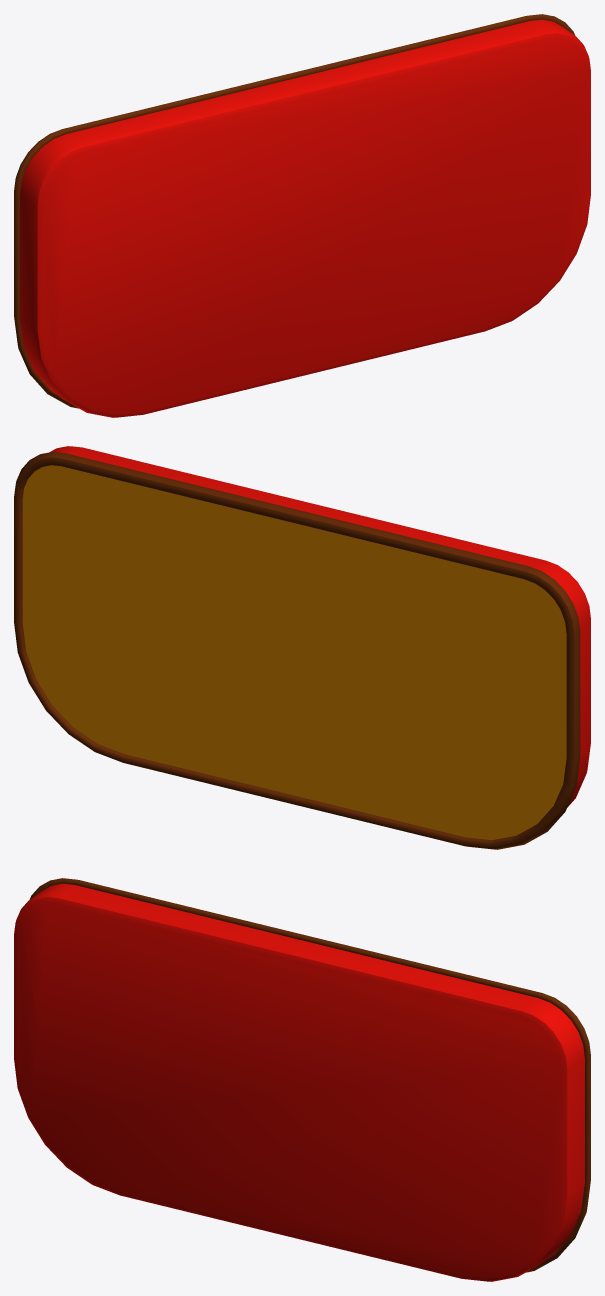
Rendered from playbtn.gltf.
The picture shows the model from 3 angles, top to bottom: view 1: azimuth 30°, elevation 25°; view 2: azimuth 150°, elevation 25°; view 3: azimuth 330°, elevation 25°; orthographic projection.
Parts seen in each view (by area): view 1: Back, Border; view 2: Front, Border, Back; view 3: Back, Border.
Part boxes in pixels (bbox=[...]): Back: bbox=[20, 19, 590, 417]; Border: bbox=[14, 14, 575, 408]; Front: bbox=[22, 465, 566, 840]; Border: bbox=[14, 452, 580, 849]; Back: bbox=[50, 446, 590, 807]; Back: bbox=[14, 883, 584, 1281]; Border: bbox=[29, 878, 590, 1272].
Size of the model in its own units: 14.73 by 7.35 by 1.03.
